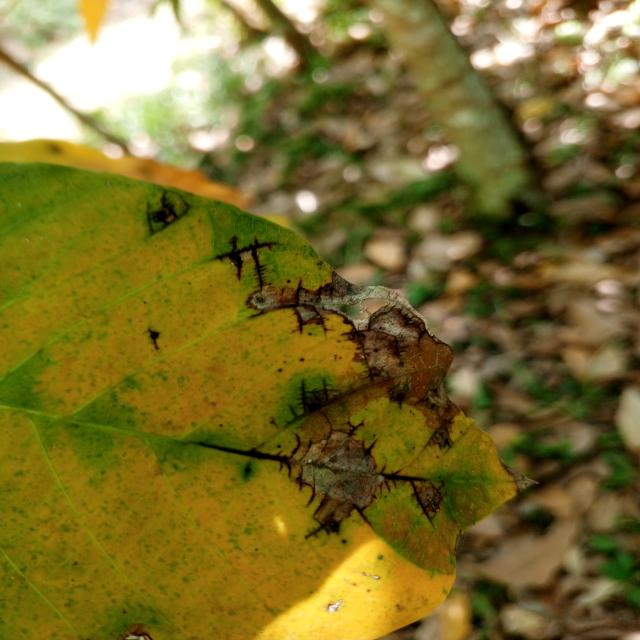Corynespora: (190, 417, 444, 541), (251, 280, 333, 336), (193, 436, 302, 478), (286, 377, 358, 427), (213, 236, 275, 292), (303, 495, 374, 541), (146, 189, 191, 239), (345, 330, 381, 380), (409, 481, 447, 528), (379, 466, 427, 492), (425, 418, 455, 452), (294, 473, 318, 507), (340, 416, 369, 436), (144, 326, 163, 351), (390, 336, 408, 360), (363, 438, 378, 460)
Leaf-Blight: (506, 466, 538, 492)
